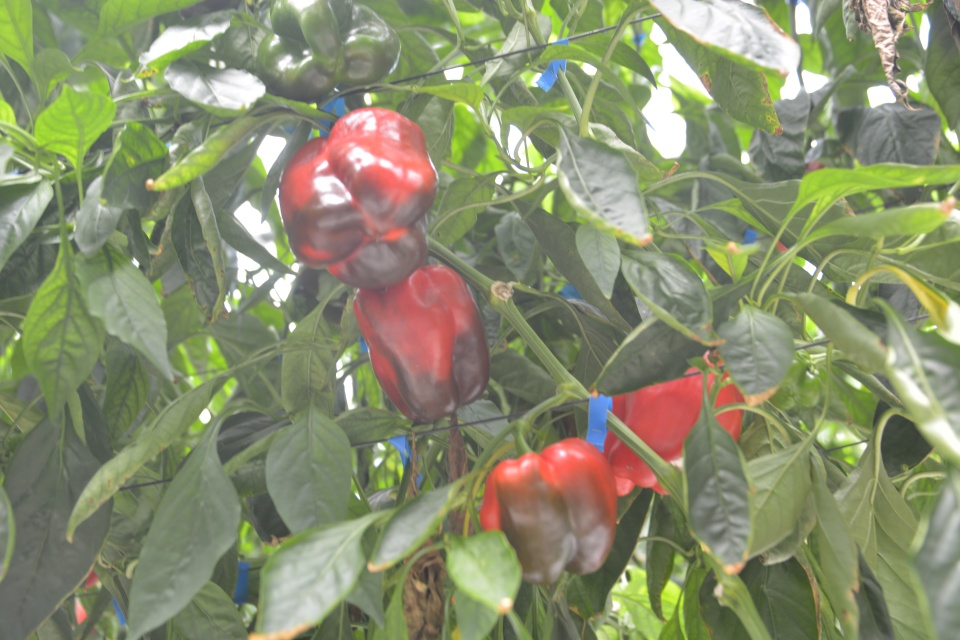fruit: (276, 105, 441, 294), (352, 261, 493, 427), (600, 350, 746, 498), (480, 436, 620, 590), (252, 0, 404, 105)
